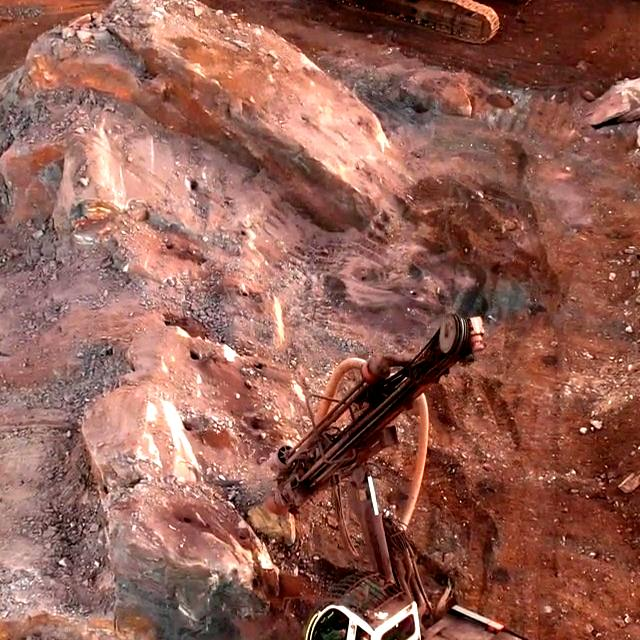Blast rig: (319, 577, 617, 640)
Excavator: (316, 0, 516, 33)
